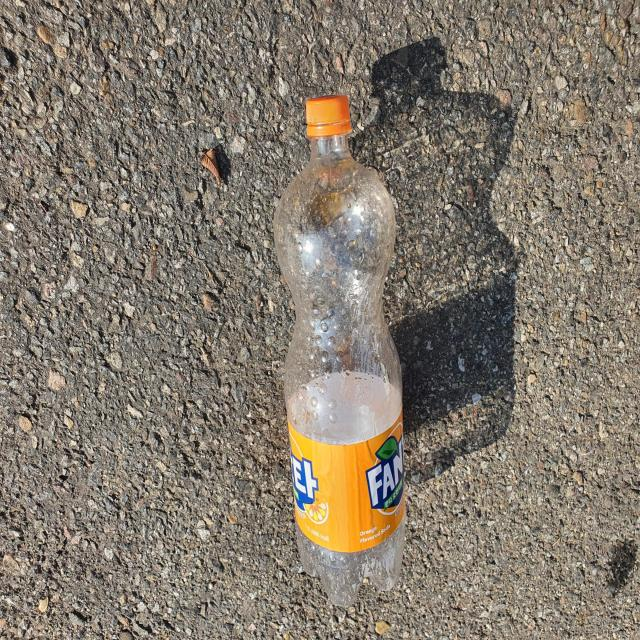plastic: (274, 95, 405, 608)
